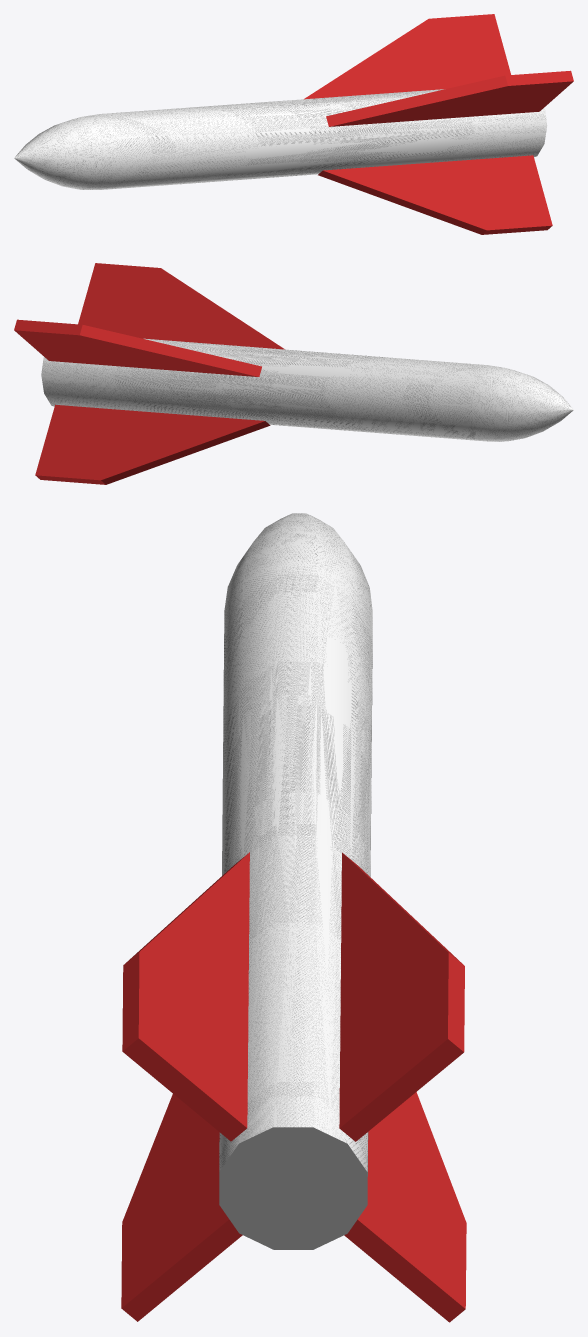
Rendered from missileLauncherP2.dae.
The picture shows the model from 3 angles, top to bottom: view 1: azimuth 30°, elevation 25°; view 2: azimuth 150°, elevation 25°; view 3: azimuth 270°, elevation 25°; orthographic projection. The views are drawn at different scales.
Parts seen in each view (by area): view 1: Rakete, raketenfluegel (×3); view 2: Rakete, raketenfluegel (×3); view 3: Rakete (×2), raketenfluegel (×4).
Boxes of the visible parts, left/top/right/bottom form: Rakete: left=14, top=89, right=547, bottom=189; raketenfluegel (×3): left=304, top=14, right=573, bottom=234; Rakete: left=41, top=338, right=573, bottom=441; raketenfluegel (×3): left=14, top=263, right=284, bottom=484; Rakete (×2): left=219, top=513, right=372, bottom=1249; raketenfluegel (×4): left=121, top=852, right=466, bottom=1322.
Size of the model in its own units: 3.06 by 0.8851 by 1.04.
